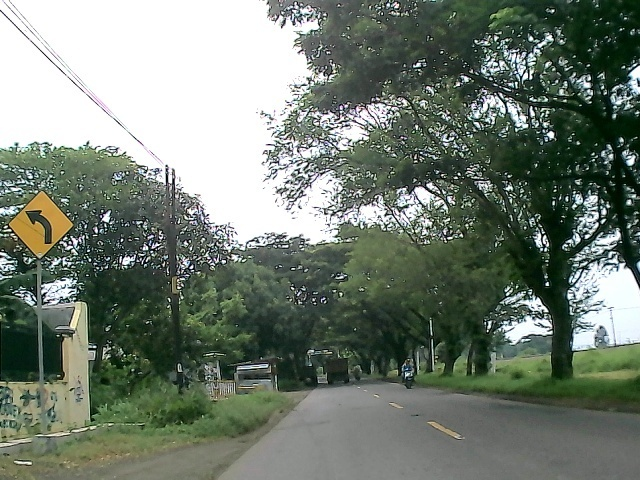Tikungan ke kiri: (5, 189, 73, 263)
